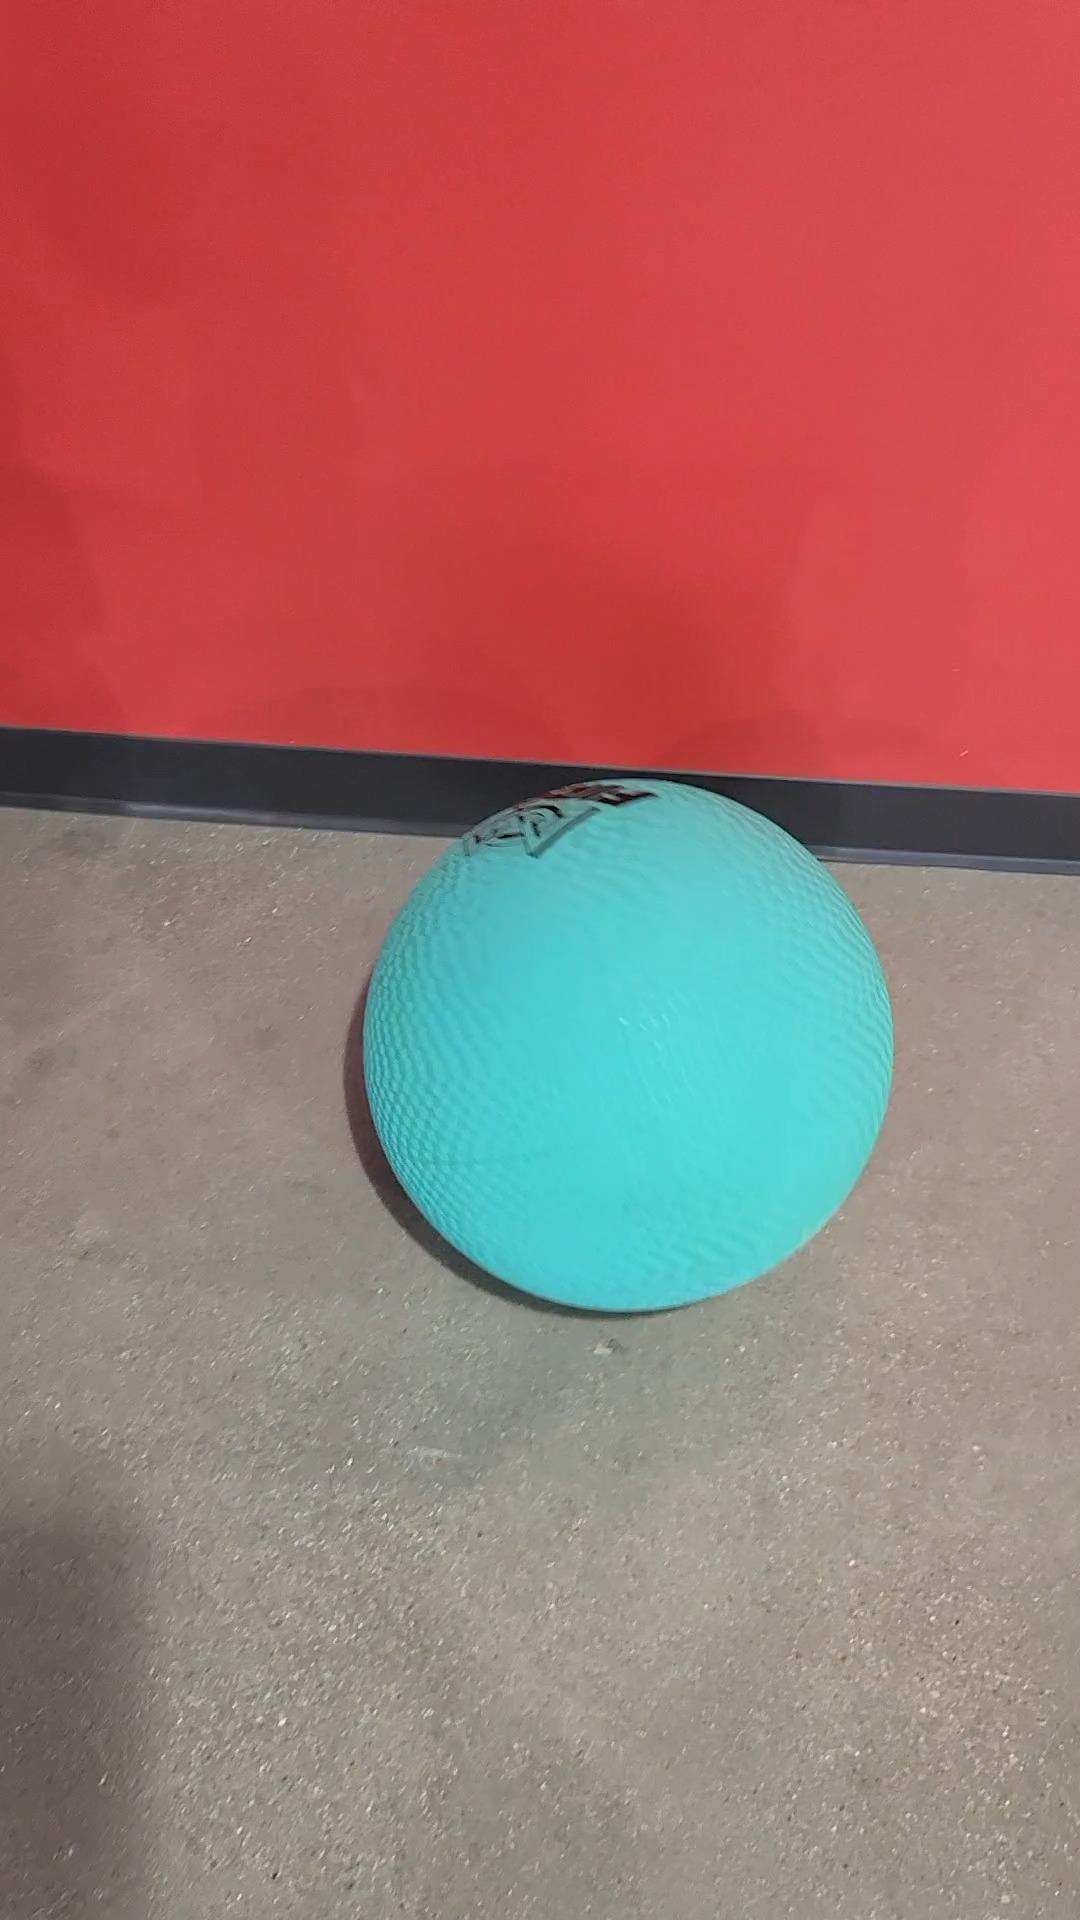algae: (363, 775, 886, 1312)
